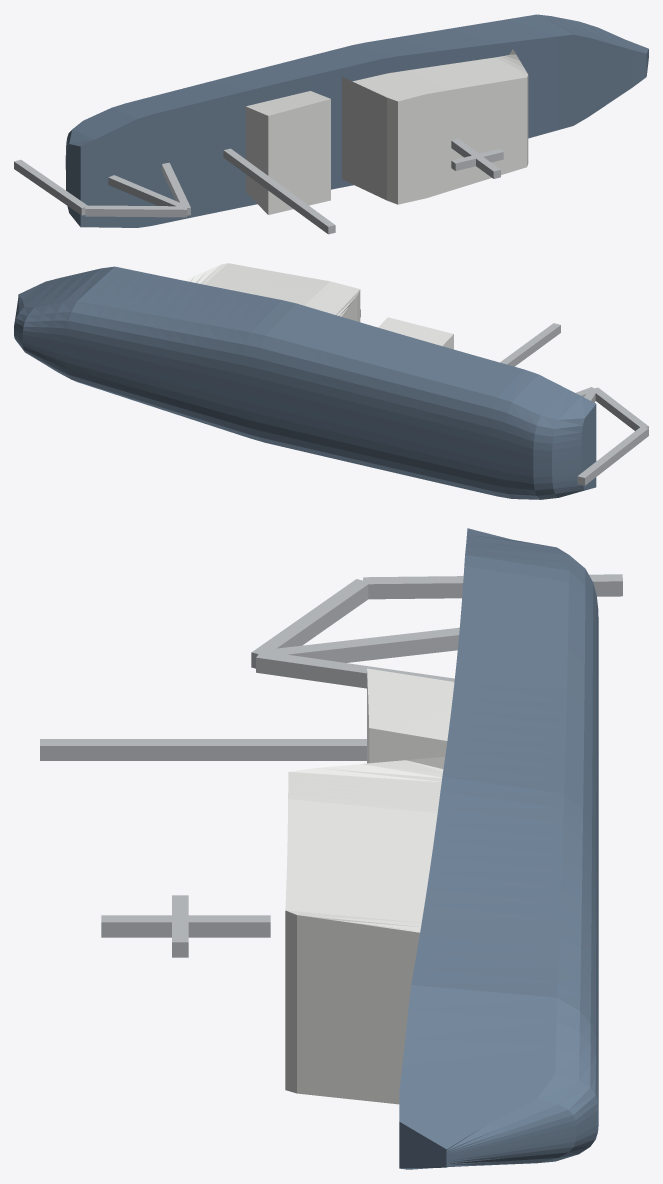
The model's file is mine-clearance-loft-slender.glb.
3 views of the same model, one above another, from view 1: azimuth 30°, elevation 25°; view 2: azimuth 150°, elevation 25°; view 3: azimuth 270°, elevation 25° (orthographic). The views are drawn at different scales.
Parts seen in each view (by area): view 1: mine-clearance-loft-slender; view 2: mine-clearance-loft-slender; view 3: mine-clearance-loft-slender.
Boxes of the visible parts, x1,y1,x2,y2 form: mine-clearance-loft-slender: [14, 14, 648, 234]; mine-clearance-loft-slender: [14, 263, 648, 499]; mine-clearance-loft-slender: [40, 528, 622, 1169].
Bounding box in the file's own units: 1.96 × 0.3833 × 0.8381.
